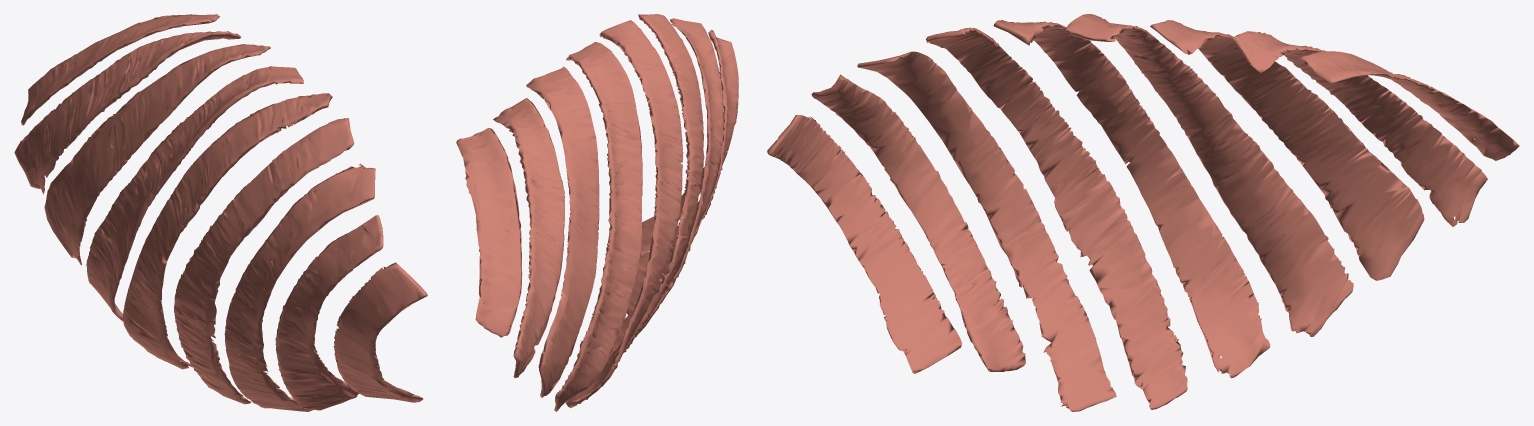
The picture shows the model from 3 angles, left to right: view 1: azimuth 30°, elevation 25°; view 2: azimuth 150°, elevation 25°; view 3: azimuth 270°, elevation 25°; orthographic projection. The views are drawn at different scales.
Visible parts, largest first — view 1: 右侧肋间最内肌; view 2: 右侧肋间最内肌; view 3: 右侧肋间最内肌.
Part boxes in pixels (left/top/right/bottom): 右侧肋间最内肌: left=14, top=14, right=427, bottom=411; 右侧肋间最内肌: left=456, top=14, right=738, bottom=411; 右侧肋间最内肌: left=767, top=14, right=1519, bottom=411.
Bounding box in the file's own units: 0.135 × 0.276 × 0.4786.
